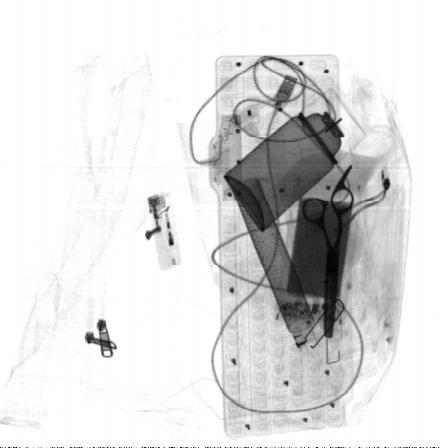Lighter: (147, 193, 185, 268)
Powerbank: (272, 177, 365, 337)
Scissors: (300, 161, 357, 339)
Sprayer: (221, 85, 371, 232)
